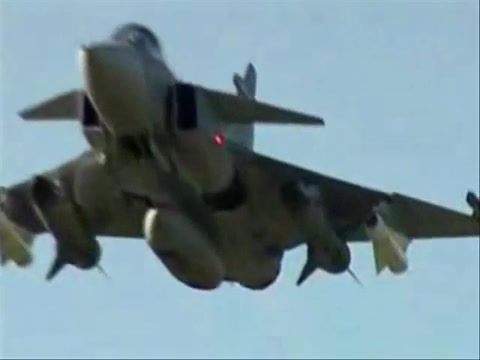aeroplane: (1, 22, 480, 292)
